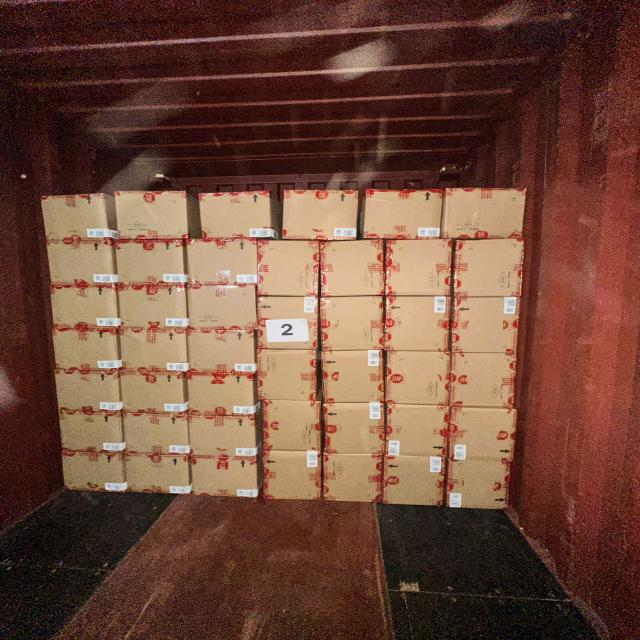Carton: (453, 239, 526, 300), (280, 188, 358, 244), (362, 188, 441, 242), (445, 190, 527, 242), (453, 299, 523, 358), (386, 240, 454, 299), (40, 192, 116, 244), (198, 191, 277, 241), (385, 295, 454, 352), (452, 351, 520, 408), (114, 190, 188, 242), (450, 407, 517, 464), (321, 241, 386, 299), (386, 350, 453, 406), (386, 404, 452, 459), (259, 241, 321, 299), (320, 295, 384, 351), (320, 350, 385, 405), (46, 241, 118, 290), (257, 348, 321, 402), (186, 240, 258, 288), (115, 240, 187, 288), (446, 460, 511, 513), (257, 295, 319, 350), (380, 457, 444, 510), (59, 448, 129, 496), (323, 402, 385, 456), (188, 285, 260, 331), (116, 286, 188, 331), (261, 448, 322, 501), (260, 400, 322, 452), (122, 411, 192, 457), (188, 372, 258, 418), (48, 285, 118, 330), (190, 454, 258, 500), (58, 409, 126, 455), (187, 414, 258, 458), (187, 330, 258, 374), (123, 451, 193, 495), (119, 369, 187, 414), (324, 456, 385, 506), (54, 368, 122, 412), (119, 328, 188, 371), (53, 327, 122, 370)
